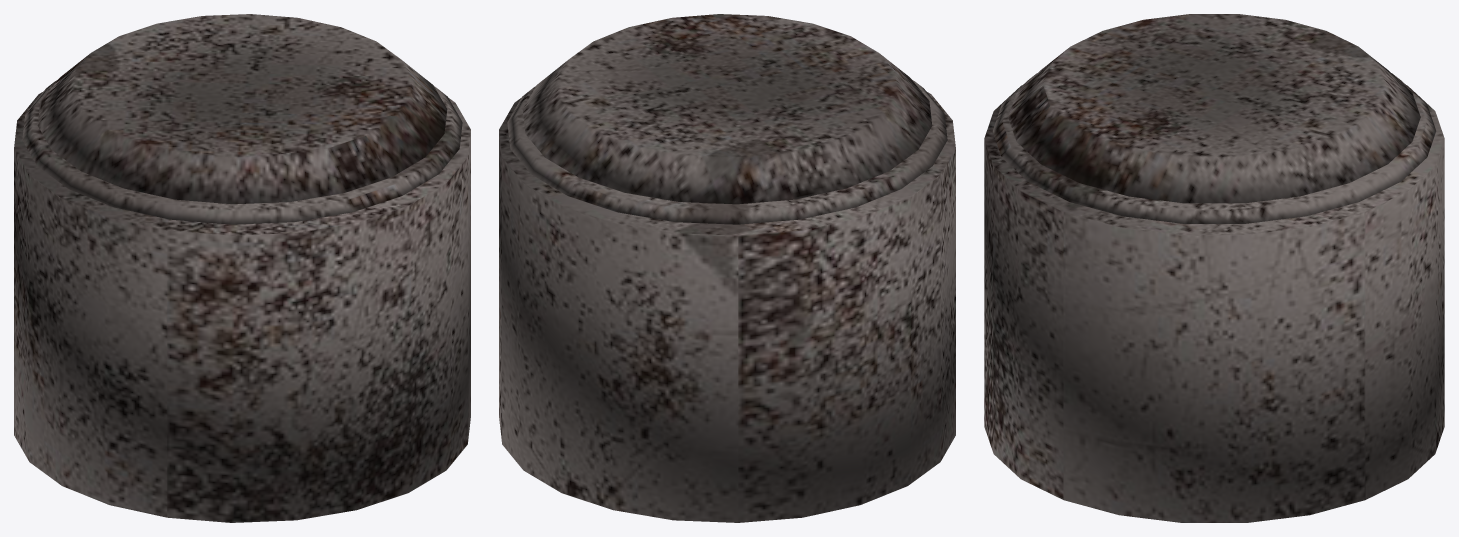
File: item10.fbx
3 views of the same model, side by side, from view 1: azimuth 30°, elevation 25°; view 2: azimuth 150°, elevation 25°; view 3: azimuth 270°, elevation 25° (orthographic).
Visible parts, largest first — view 1: Item10; view 2: Item10; view 3: Item10.
Boxes of the visible parts, x1,y1,x2,y2 form: Item10: (14,14,470,522); Item10: (499,14,955,522); Item10: (984,14,1444,522).
Size of the model in its own units: 198 by 164 by 200.
